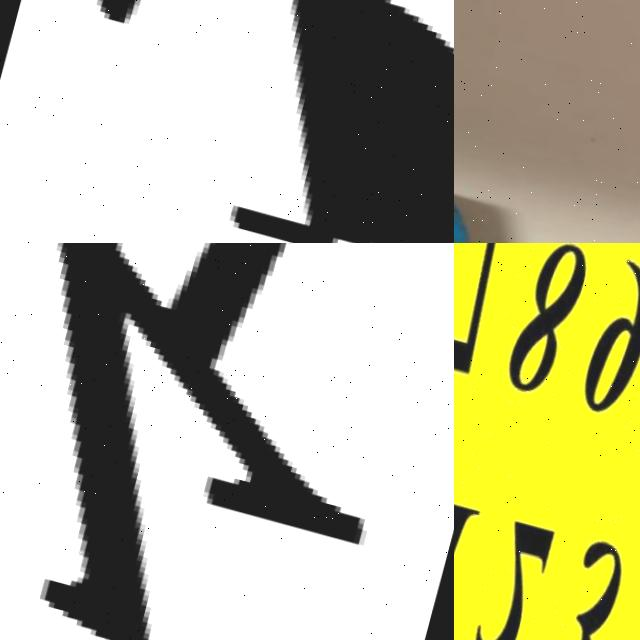1: (454, 471, 496, 640)
2: (454, 494, 569, 640)
3: (0, 0, 454, 243), (523, 513, 640, 640)
7: (454, 243, 536, 401)
8: (482, 243, 605, 426)
9: (553, 243, 640, 448)
K: (0, 243, 453, 640)
V: (454, 144, 598, 243)
